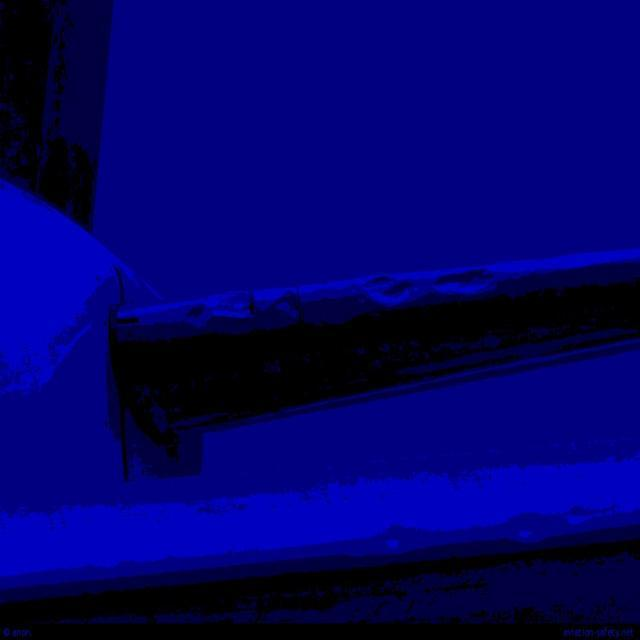dent: (358, 261, 501, 309), (189, 296, 254, 332), (270, 287, 301, 326)
